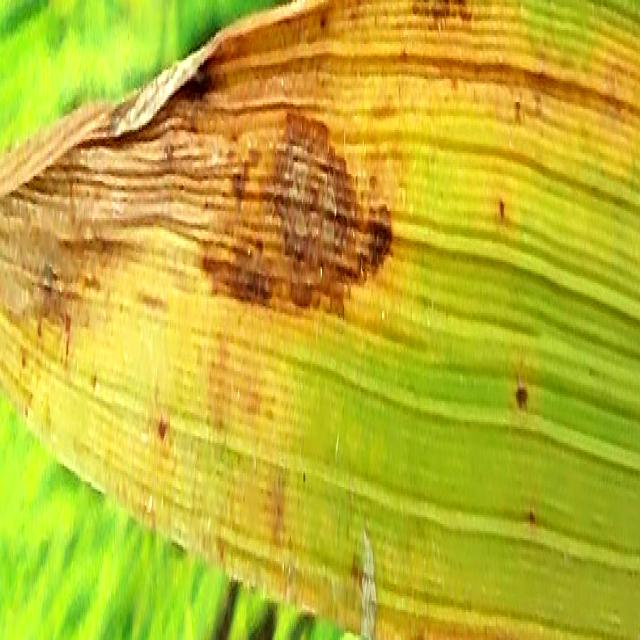LEAF BLAST: (261, 113, 390, 327), (202, 214, 269, 320)
